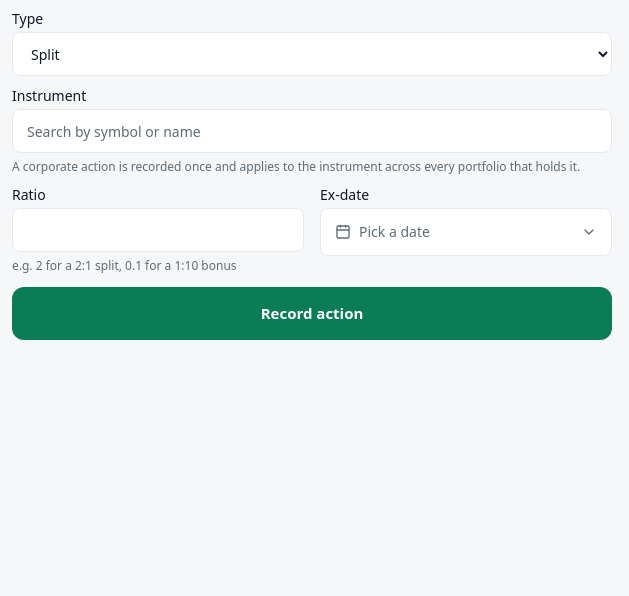
Test: RecordCorporateActionForm › renders the portfolio picker for mergers when multiple portfolios are available
The width and height of the screenshot is (629, 596).
Expected: the field labelled "Portfolio" is not shown
Switch to merger — picker appears
Select "Merger" in the dropdown at point(312, 54), box [12, 32, 612, 76]
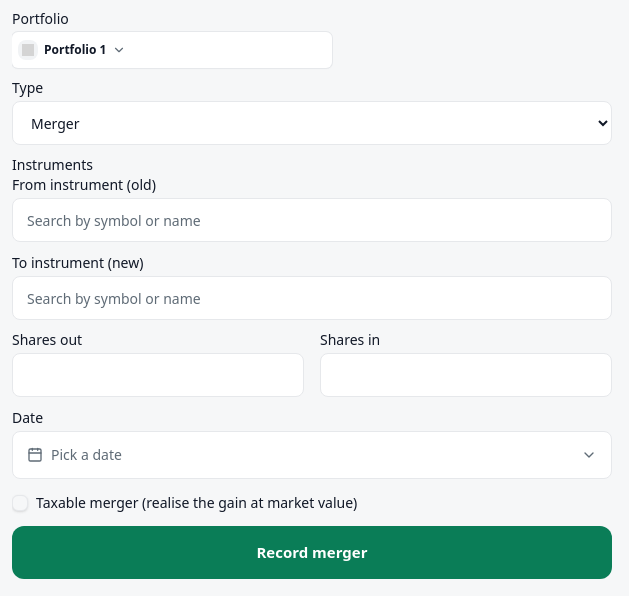
Expected: the button labelled "Portfolio 1" is shown, [12, 32, 332, 68]
Expected: the text "Portfolio 1" is shown, [44, 42, 106, 58]
